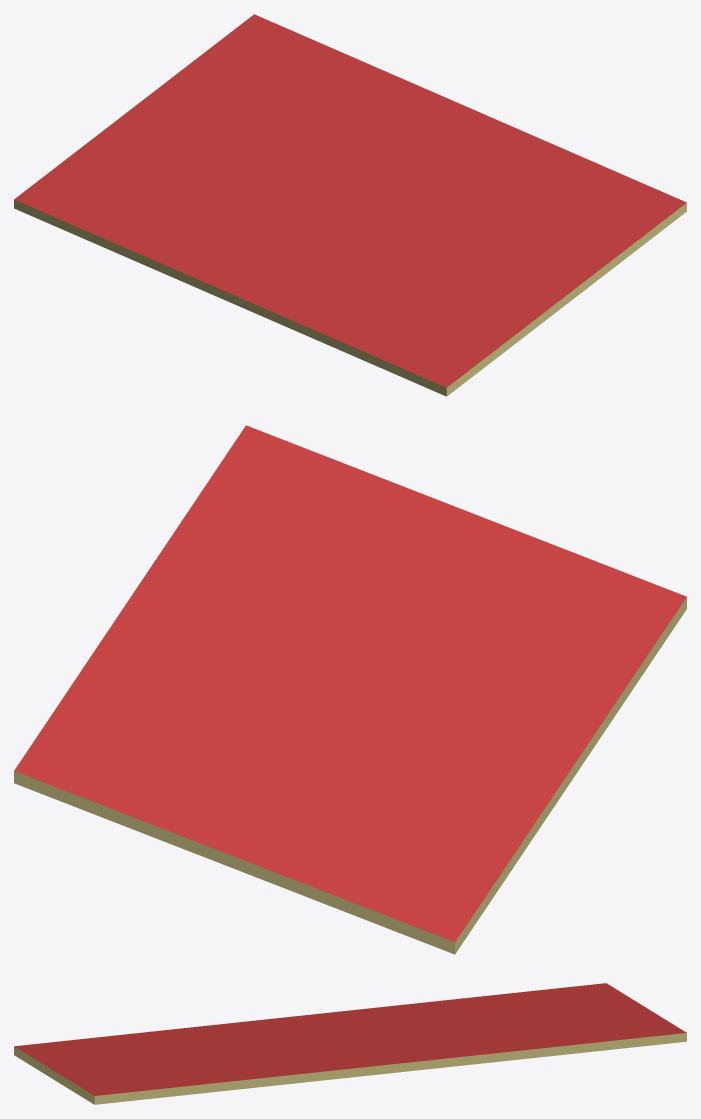
The picture shows the model from 3 angles, top to bottom: view 1: azimuth 30°, elevation 25°; view 2: azimuth 150°, elevation 25°; view 3: azimuth 270°, elevation 25°; orthographic projection. The views are drawn at different scales.
Size of the model in its own units: 4.81 by 6.91 by 1.07.
